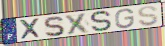G: (114, 8, 135, 29)
S: (90, 10, 114, 33), (43, 16, 66, 38), (137, 5, 160, 27)
X: (64, 12, 92, 36), (18, 17, 44, 41)
